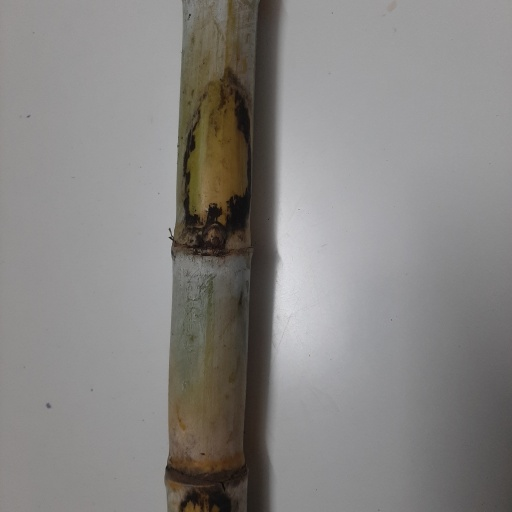Bud: (203, 224, 226, 252)
